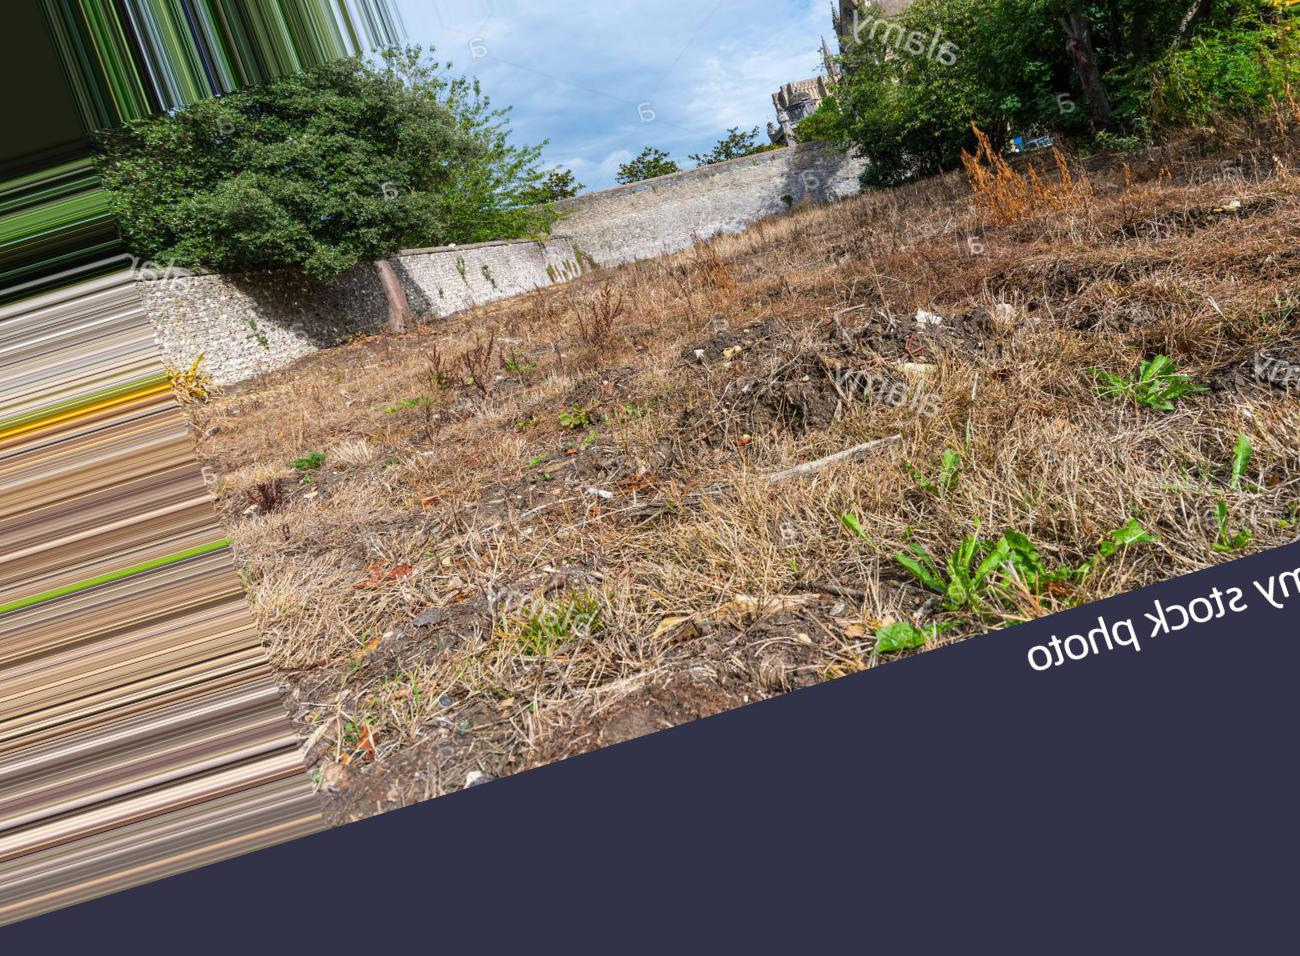patch: (254, 371, 709, 674)
